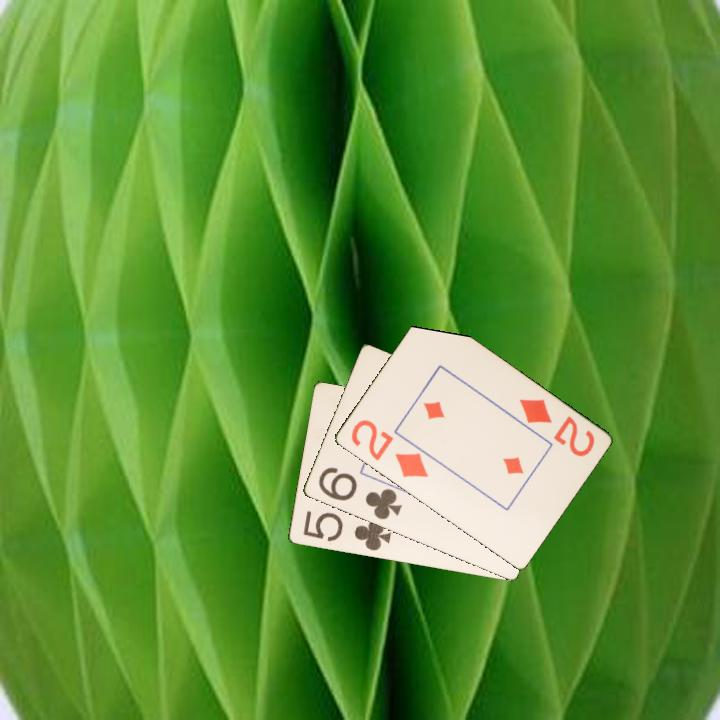2d: (347, 416, 431, 481), (515, 395, 597, 460)
5c: (299, 508, 394, 554)
6c: (314, 463, 404, 523)
